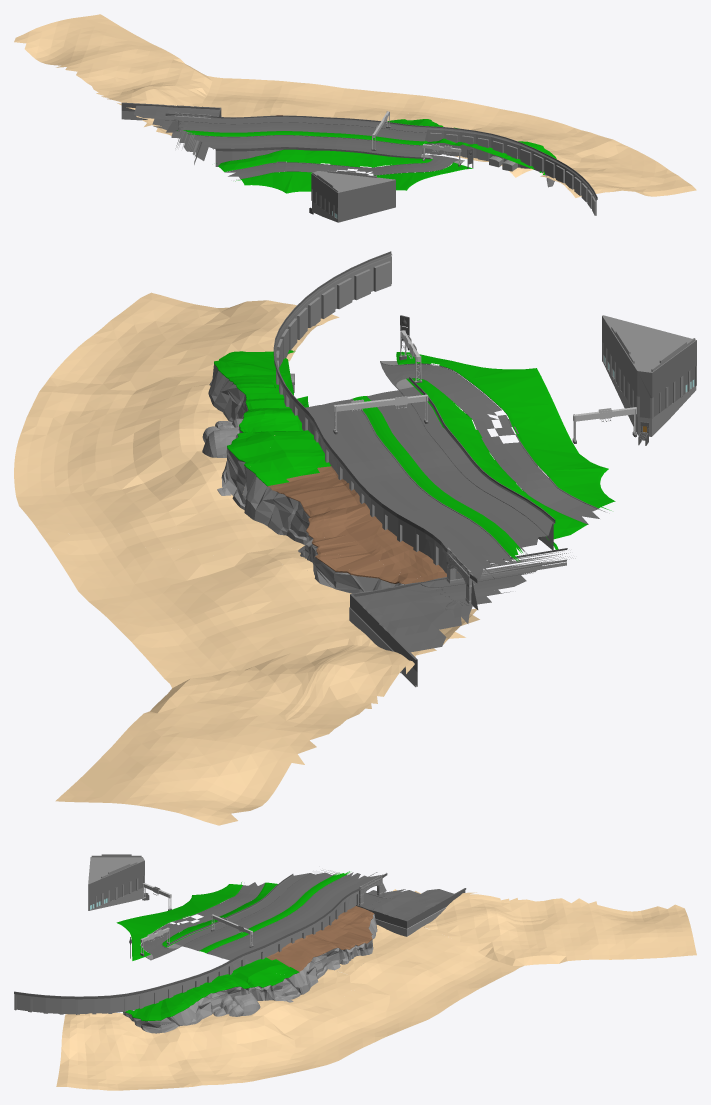
Rendered from bronx_e2_7.FBX.
3 renders of one model, top to bottom at view 1: azimuth 30°, elevation 25°; view 2: azimuth 150°, elevation 25°; view 3: azimuth 270°, elevation 25°, orthographic. The views are drawn at different scales.
Parts seen in each view (by area): view 1: unnamed, null; view 2: unnamed, null; view 3: unnamed, null.
Part boxes in pixels (bbox=[...]): unnamed: bbox=[14, 14, 473, 222]; null: bbox=[366, 100, 696, 215]; unnamed: bbox=[35, 315, 696, 825]; null: bbox=[14, 251, 391, 549]; unnamed: bbox=[88, 854, 696, 1047]; null: bbox=[14, 958, 362, 1090].
Size of the model in its own units: 269 by 51.06 by 414.
